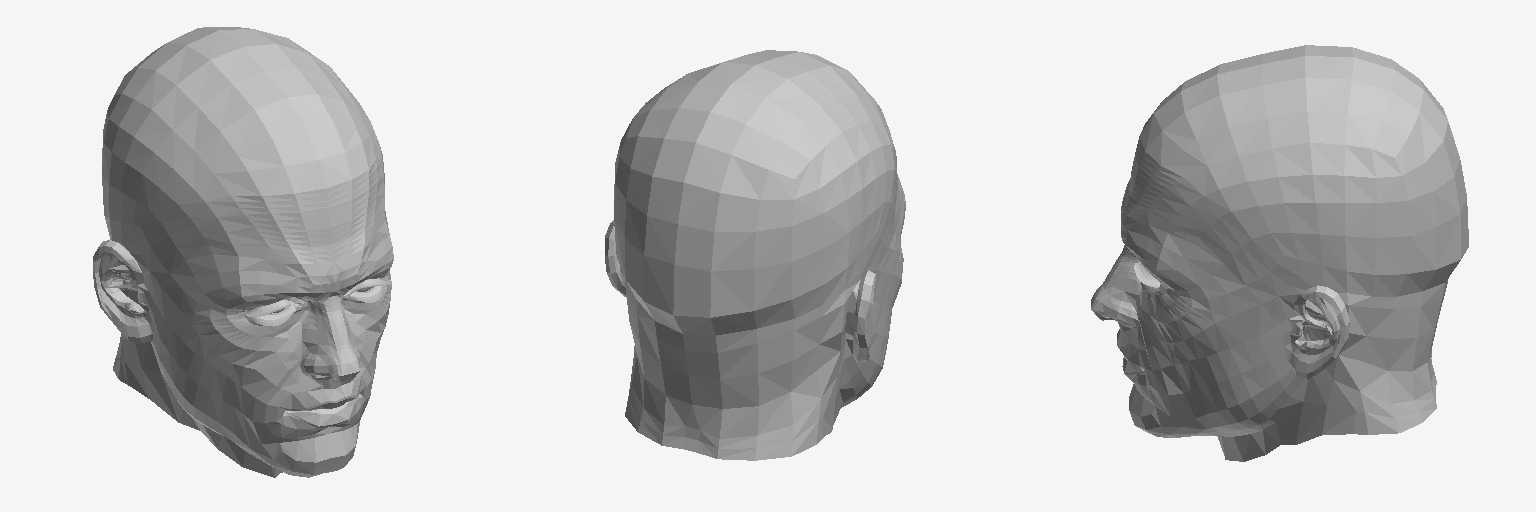
Rendered from 03pos.obj.
3 views of the same model, side by side, from view 1: azimuth 30°, elevation 25°; view 2: azimuth 150°, elevation 25°; view 3: azimuth 270°, elevation 25° (orthographic).
Visible parts, largest first — view 1: head; view 2: head; view 3: head.
Boxes of the visible parts, box(x1,y1,x2,y2) form: head: box(93, 27, 393, 477); head: box(605, 50, 905, 460); head: box(1091, 45, 1468, 461).
Size of the model in its own units: 0.0743 by 0.1067 by 0.0914.